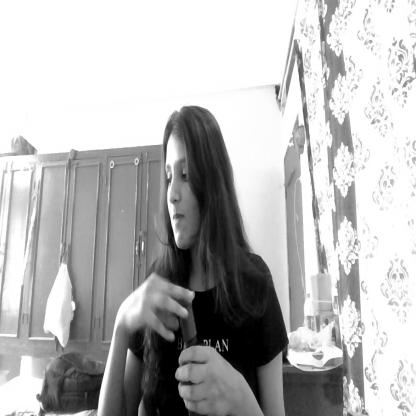Distracted: (159, 108, 220, 260)
